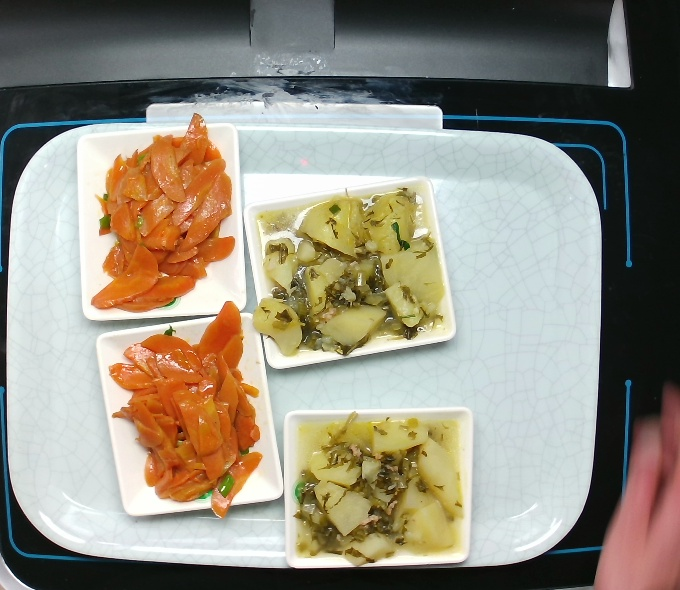wcq-HuLuoBo: (103, 326, 262, 490), (87, 131, 233, 309)
wcq-XueCaiTuDou: (262, 199, 444, 349), (290, 421, 465, 557)
